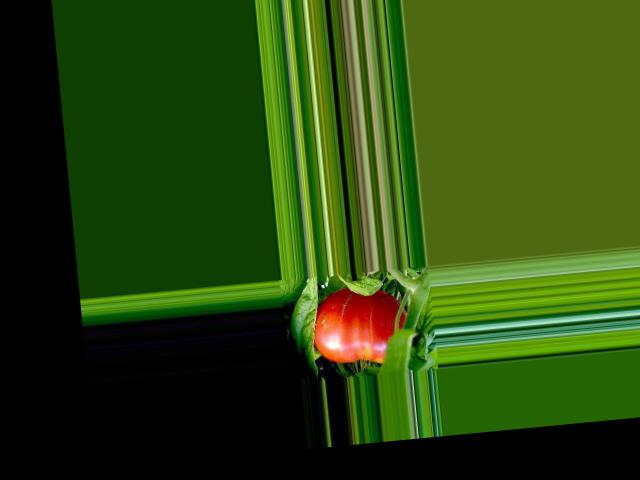tomato: (308, 283, 411, 369)
